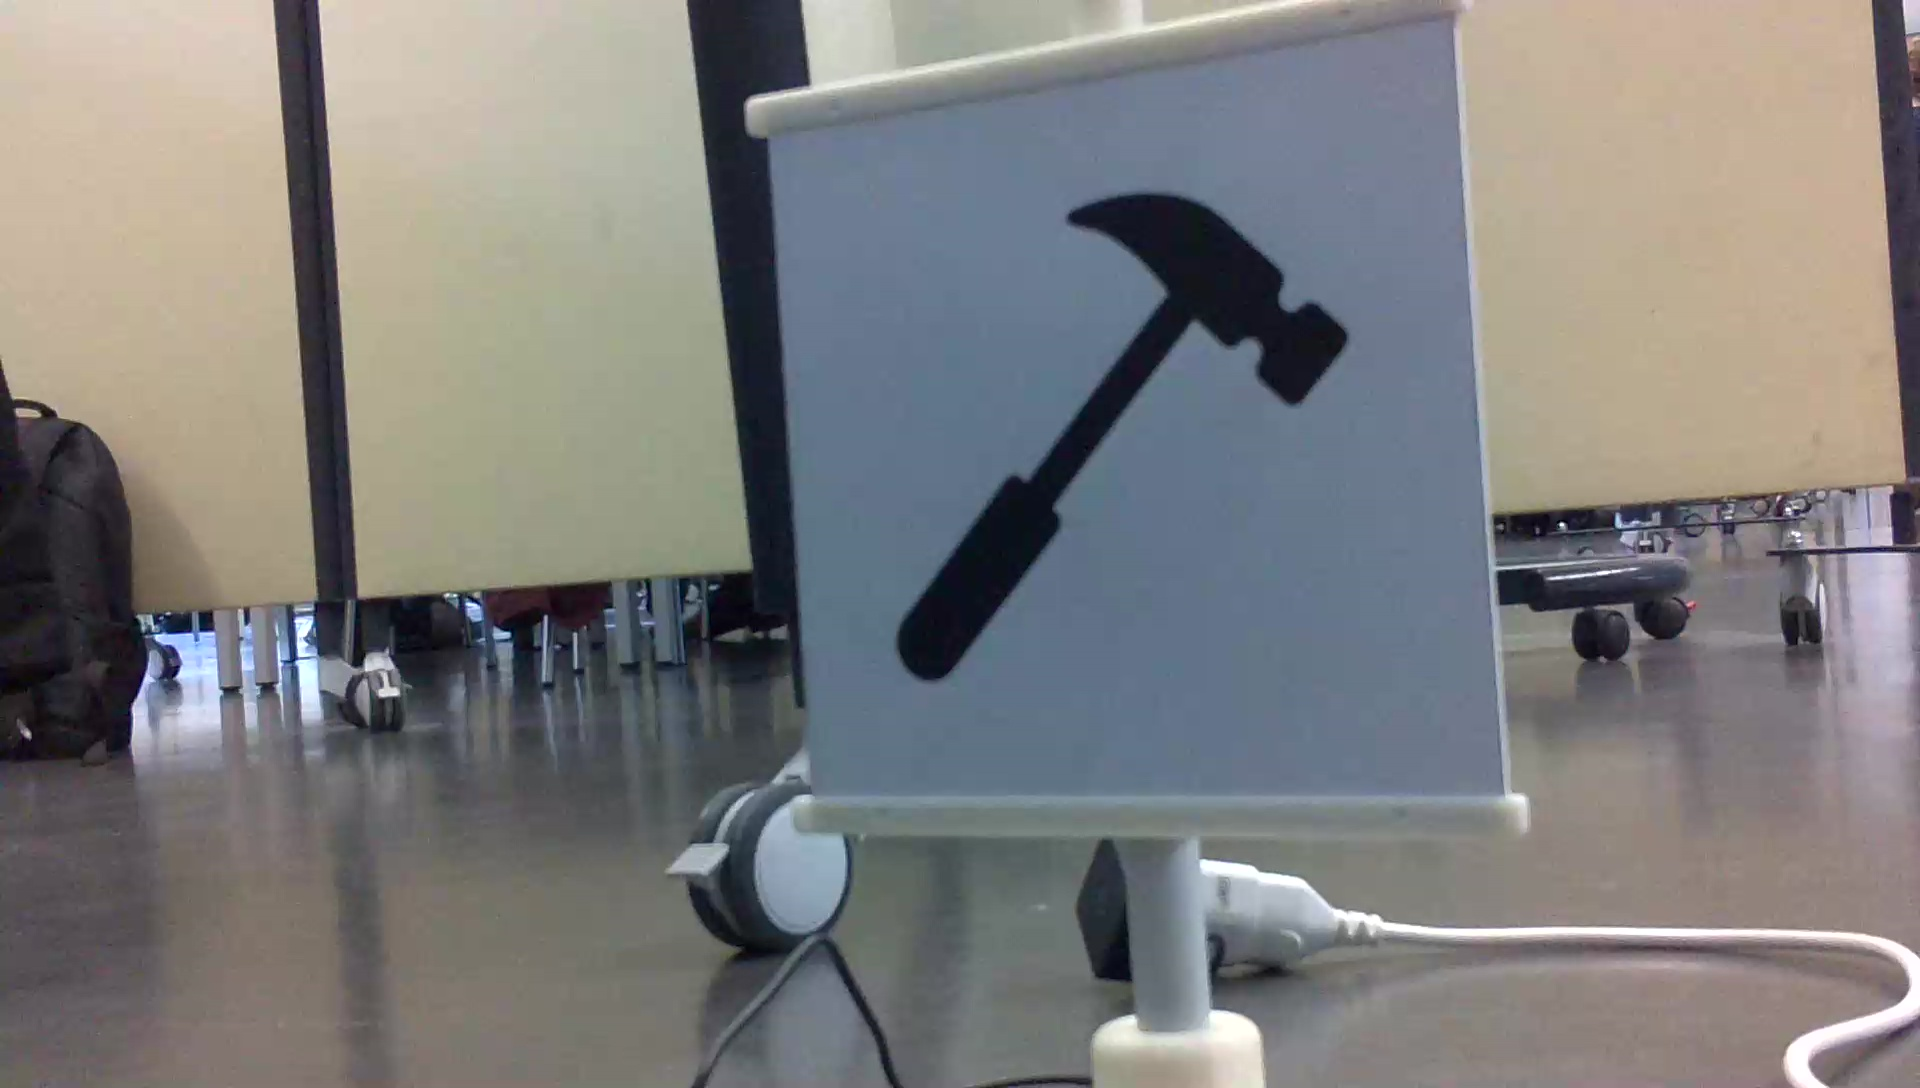hammer: (872, 179, 1360, 698)
